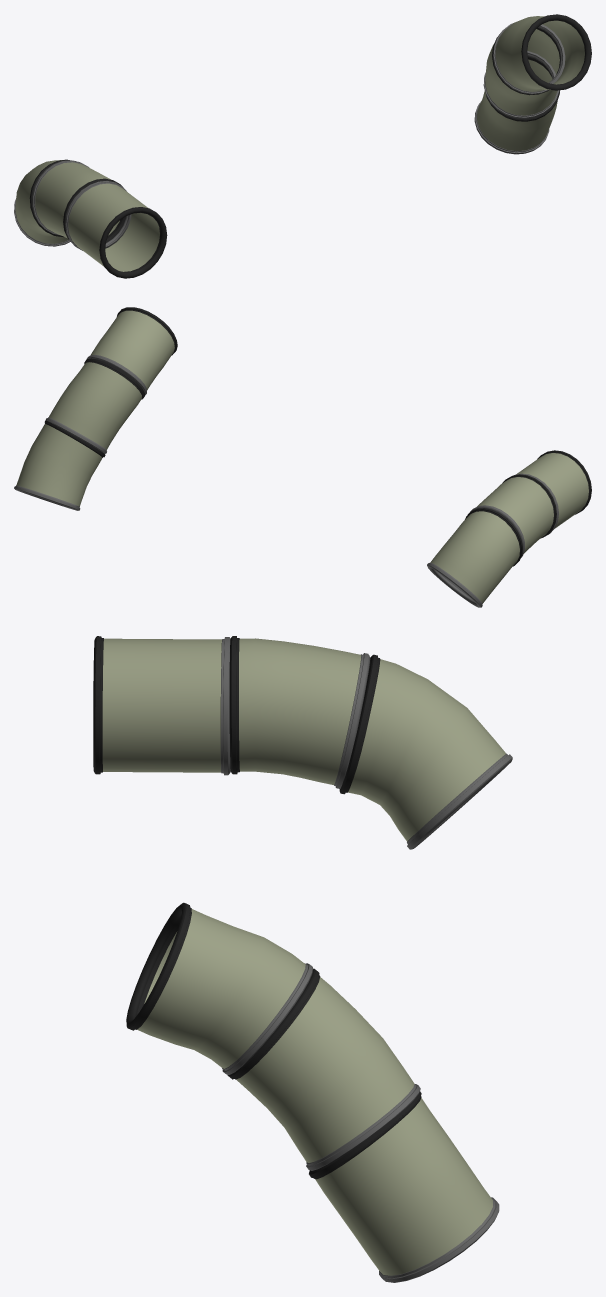
File: tunnels.fbx
3 renders of one model, top to bottom at view 1: azimuth 30°, elevation 25°; view 2: azimuth 150°, elevation 25°; view 3: azimuth 270°, elevation 25°, orthographic. The views are drawn at different scales.
Visible parts, largest first — view 1: Cylinder.001, Cylinder.004, Cylinder.002, Cylinder.006, Cylinder.005, Cylinder.003; view 2: Cylinder.003, Cylinder.005, Cylinder.006, Cylinder.004, Cylinder.002, Cylinder.001; view 3: Cylinder.006, Cylinder.005, Cylinder.004, Cylinder.003, Cylinder.001, Cylinder.002.
Boxes of the visible parts, box(x1,y1,x2,y2) form: Cylinder.001: box(65, 181, 167, 278); Cylinder.004: box(493, 14, 591, 94); Cylinder.002: box(32, 160, 126, 242); Cylinder.006: box(474, 56, 559, 154); Cylinder.005: box(483, 27, 560, 118); Cylinder.003: box(14, 159, 75, 246); Cylinder.003: box(427, 508, 522, 607); Cylinder.005: box(46, 358, 144, 453); Cylinder.006: box(14, 420, 105, 510); Cylinder.004: box(86, 307, 177, 395); Cylinder.002: box(467, 474, 556, 557); Cylinder.001: box(514, 450, 591, 537); Cylinder.006: box(309, 1091, 499, 1282); Cylinder.005: box(227, 968, 420, 1170); Cylinder.004: box(126, 902, 312, 1075); Cylinder.003: box(339, 654, 512, 849); Cylinder.001: box(93, 636, 230, 775); Cylinder.002: box(229, 636, 370, 788).
Bounding box in the file's own units: 3825 × 1257 × 1421.
